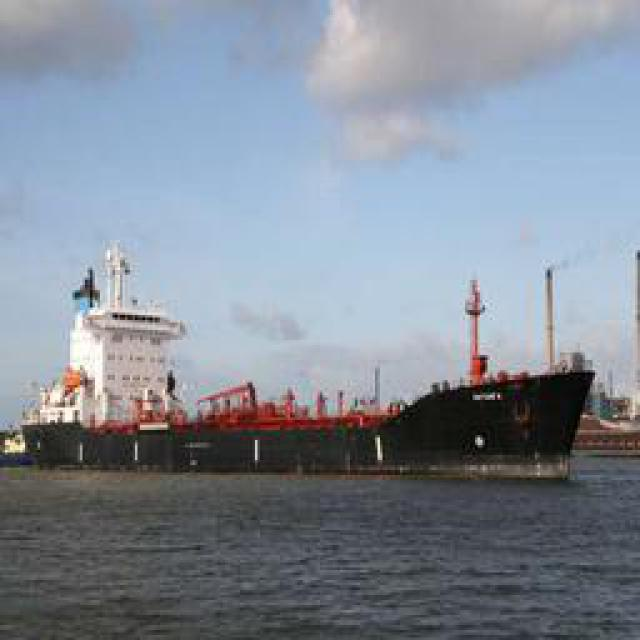Ship: (25, 239, 595, 474)
